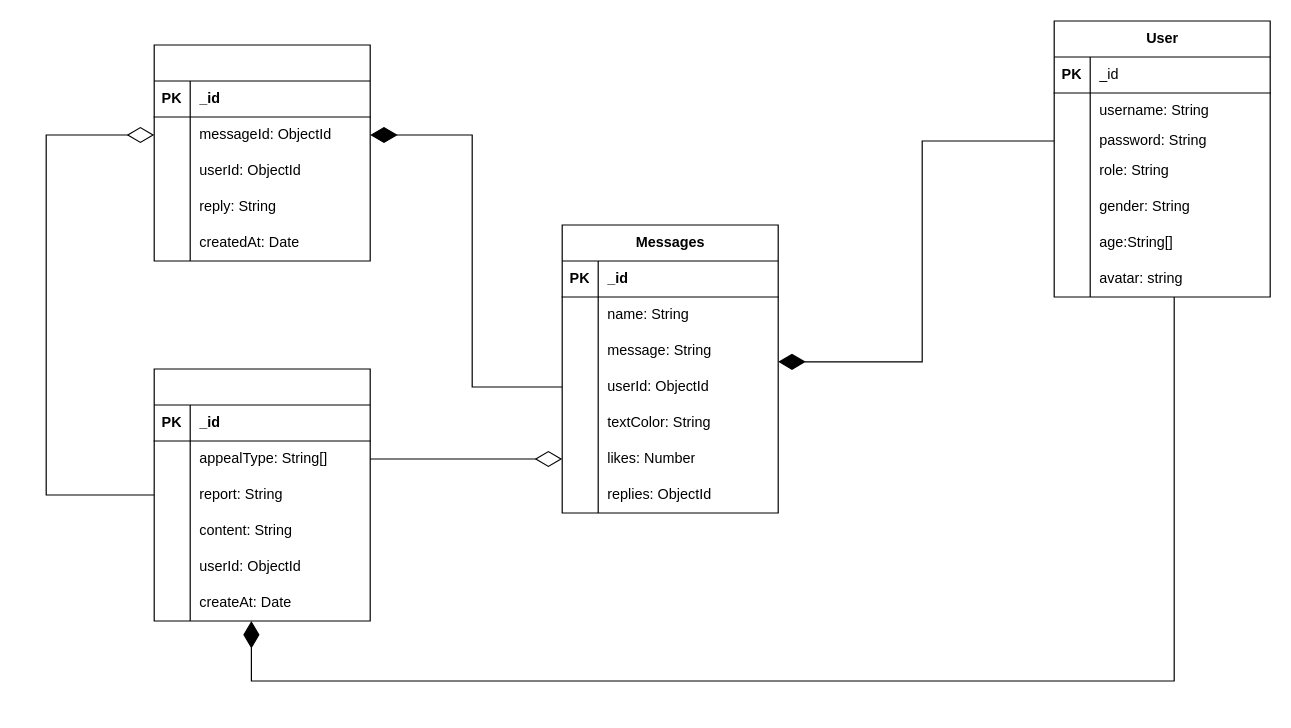
Some shapes in this 1291 by 728 pixel diagram are drawn without their labels. Here are the shapes that lost their labels. From the top down, the box of each, then its label:
(153, 44, 370, 261): Replies
(153, 368, 370, 621): Appeals
